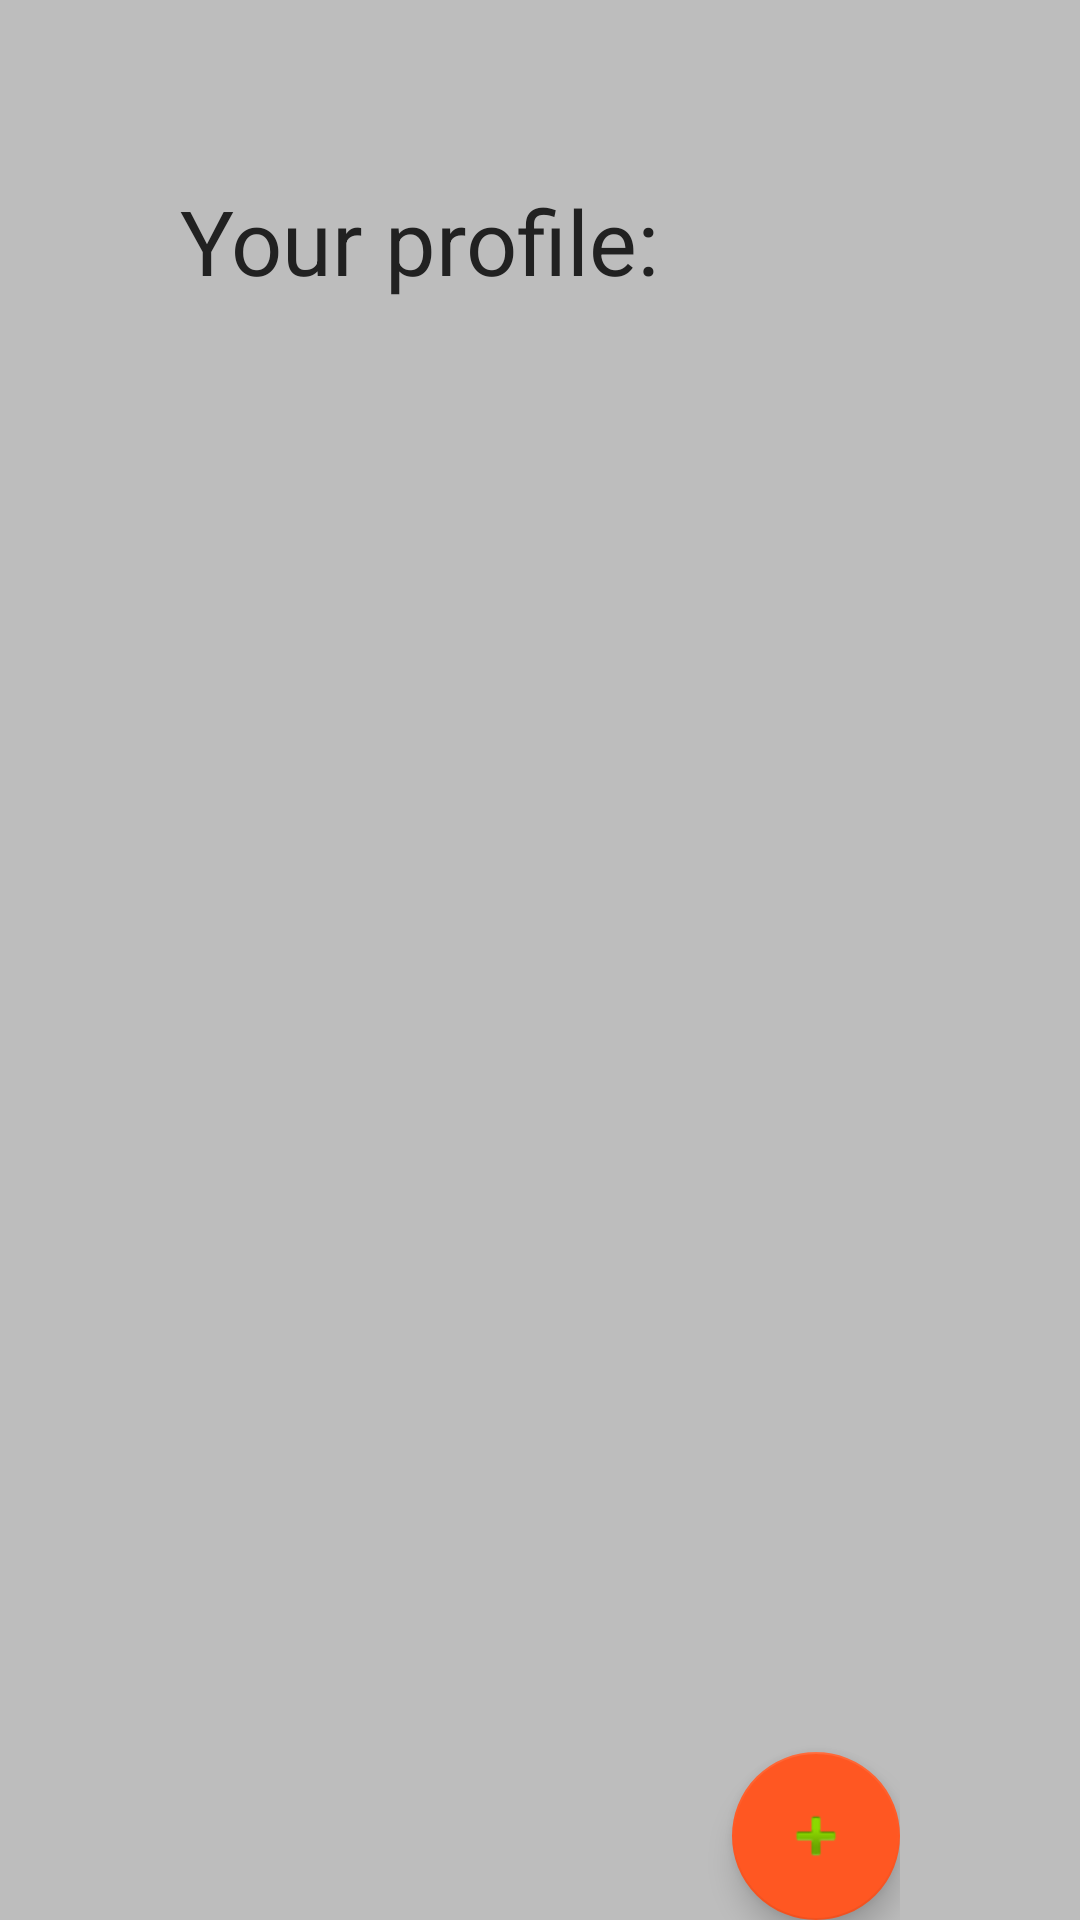

Icons on this 1080 × 1920 Android screen, each with its box as (x1, y1, x2, y2):
add: (732, 1752, 900, 1920)
